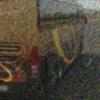buses: (0, 0, 87, 98)
